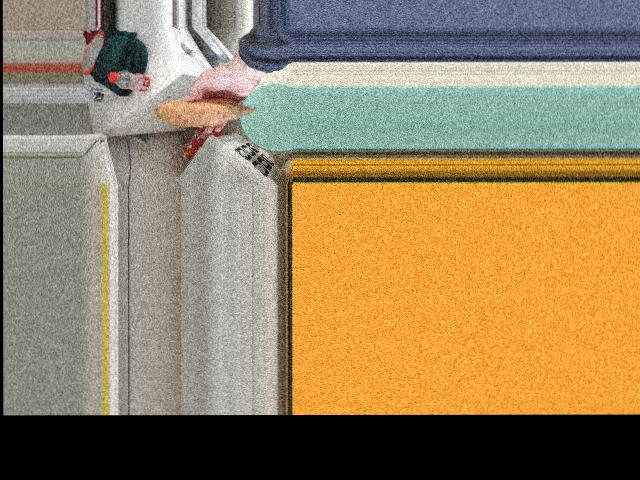sweet_potato: (167, 91, 235, 122)
